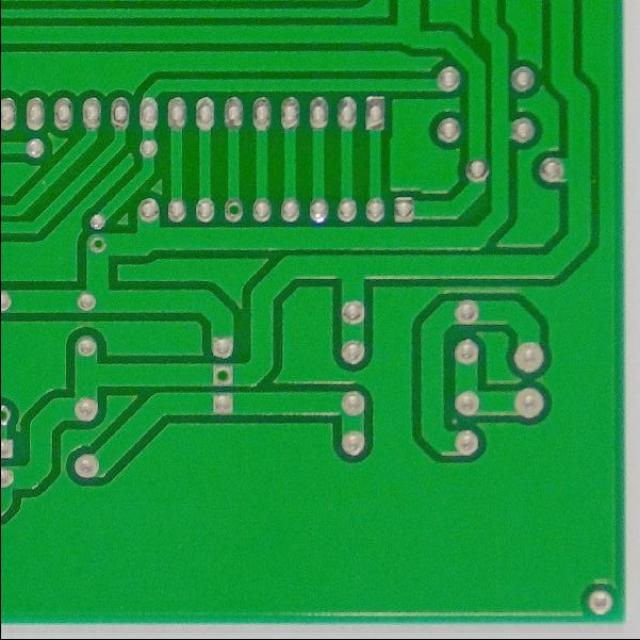Missing_Hole: (209, 361, 234, 388), (220, 196, 244, 224), (83, 231, 109, 256), (0, 400, 14, 426)
